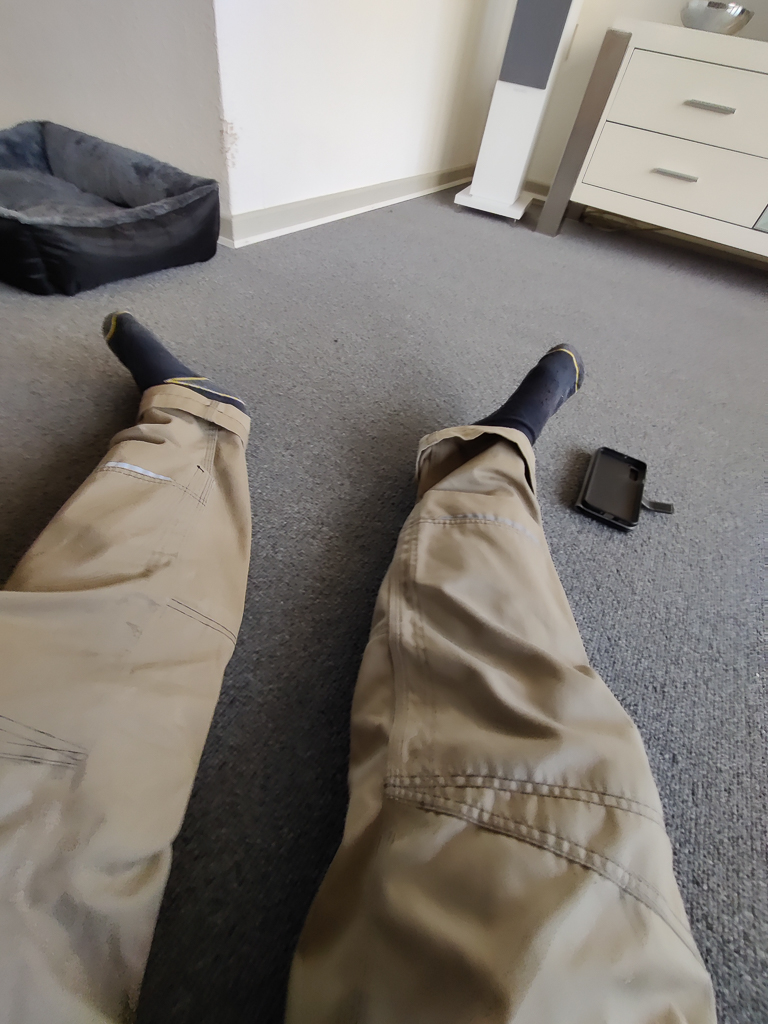Humanoid: (0, 293, 724, 1024)
